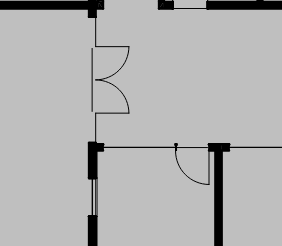door: (170, 138, 214, 189)
double door: (87, 42, 134, 118)
